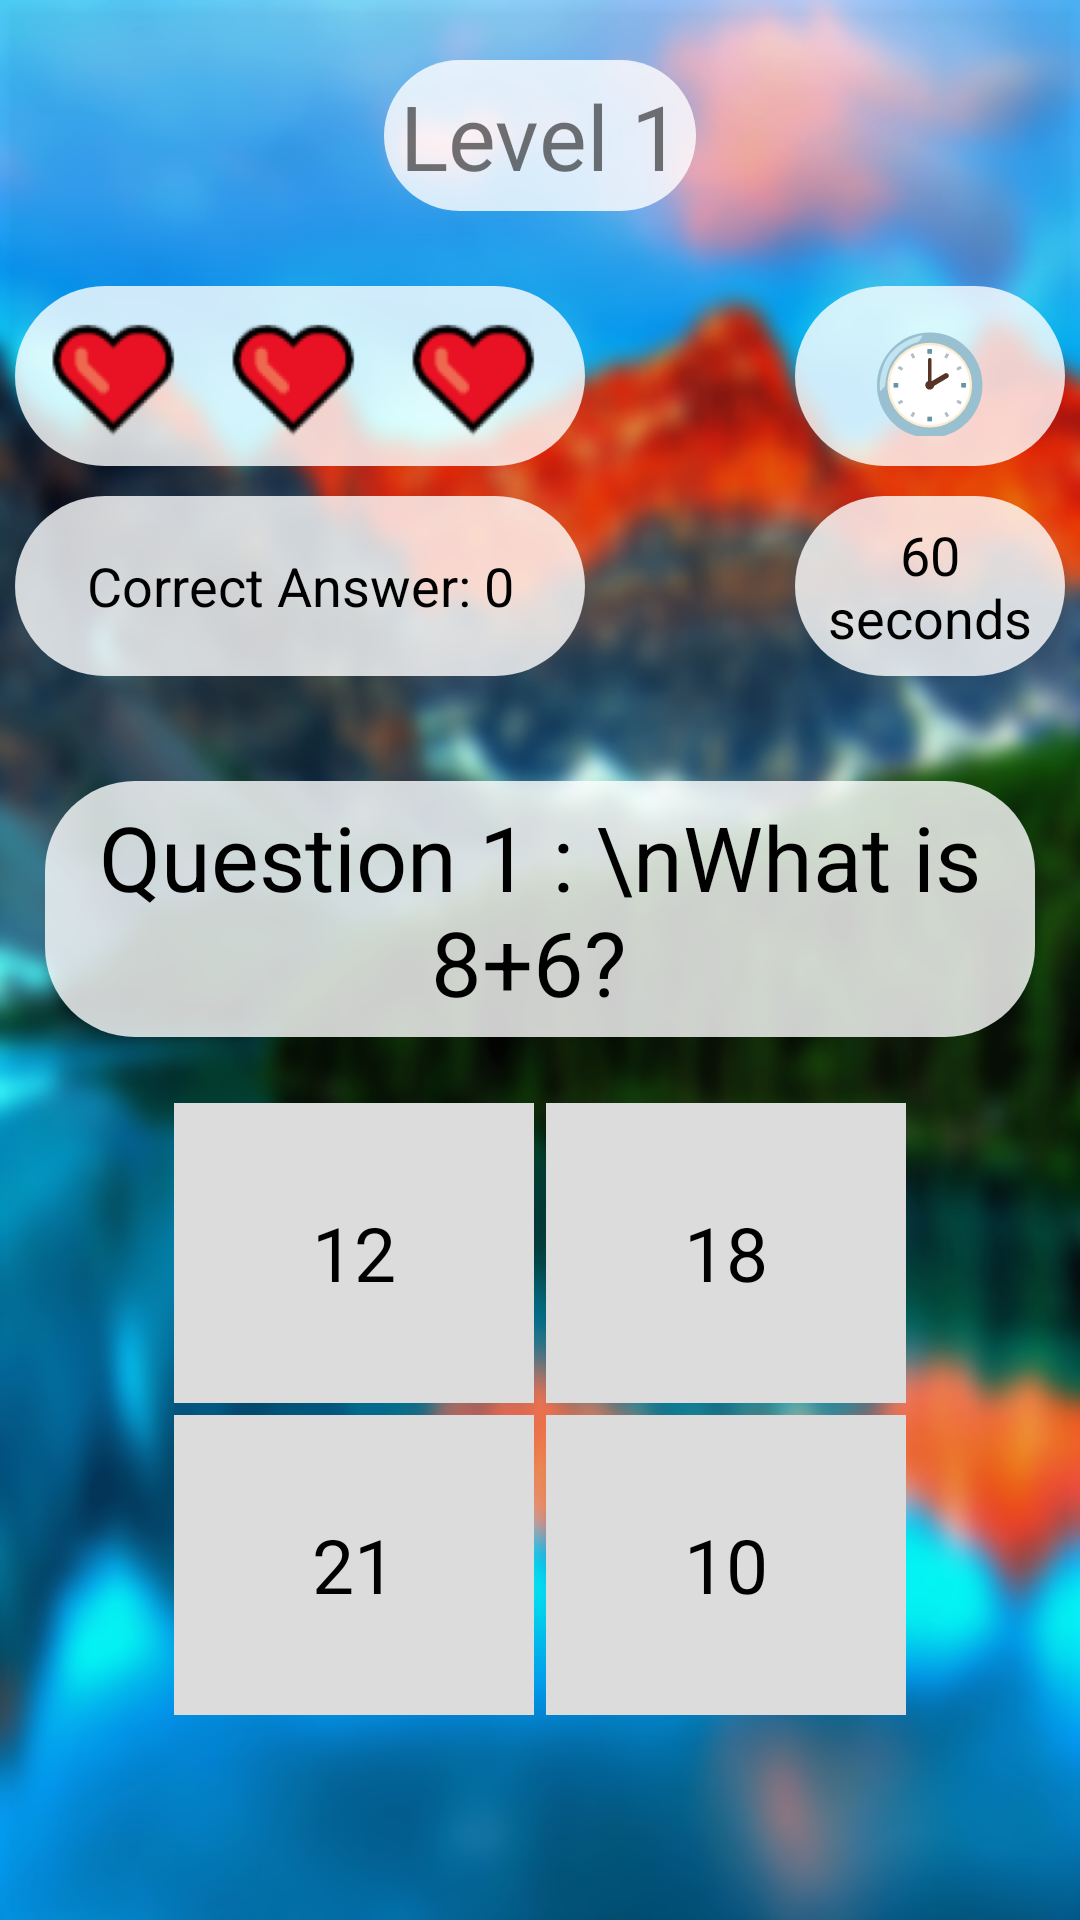

Icons on this 1080*1920 Android screen, each with the point to tap as [x,y]:
heart: [120,376], [300,376], [480,376]
